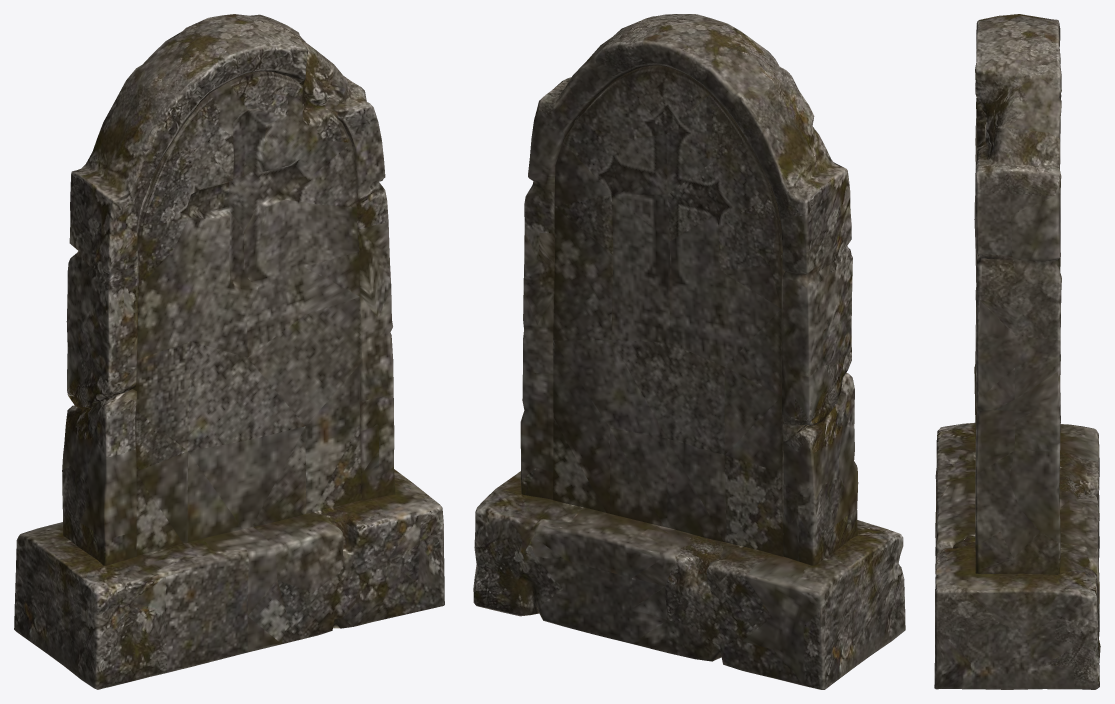
The model's file is h_gravestone.glb.
3 renders of one model, left to right at view 1: azimuth 30°, elevation 25°; view 2: azimuth 150°, elevation 25°; view 3: azimuth 270°, elevation 25°, orthographic.
Parts seen in each view (by area): view 1: h_gravestone; view 2: h_gravestone; view 3: h_gravestone.
Boxes of the visible parts, x1=… form: h_gravestone: x1=14, y1=14, x2=444, y2=689; h_gravestone: x1=473, y1=14, x2=905, y2=689; h_gravestone: x1=934, y1=14, x2=1100, y2=689.
Bounding box in the file's own units: 0.9632 × 1.54 × 0.4001.
Materials: 1 (1 with a texture image).
